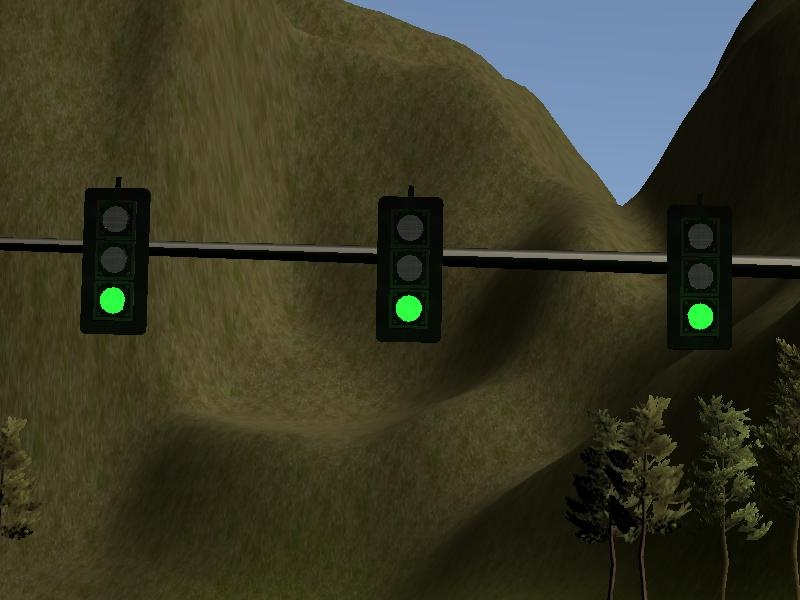GREEN: (664, 203, 732, 355), (377, 194, 445, 346), (81, 185, 149, 337)
